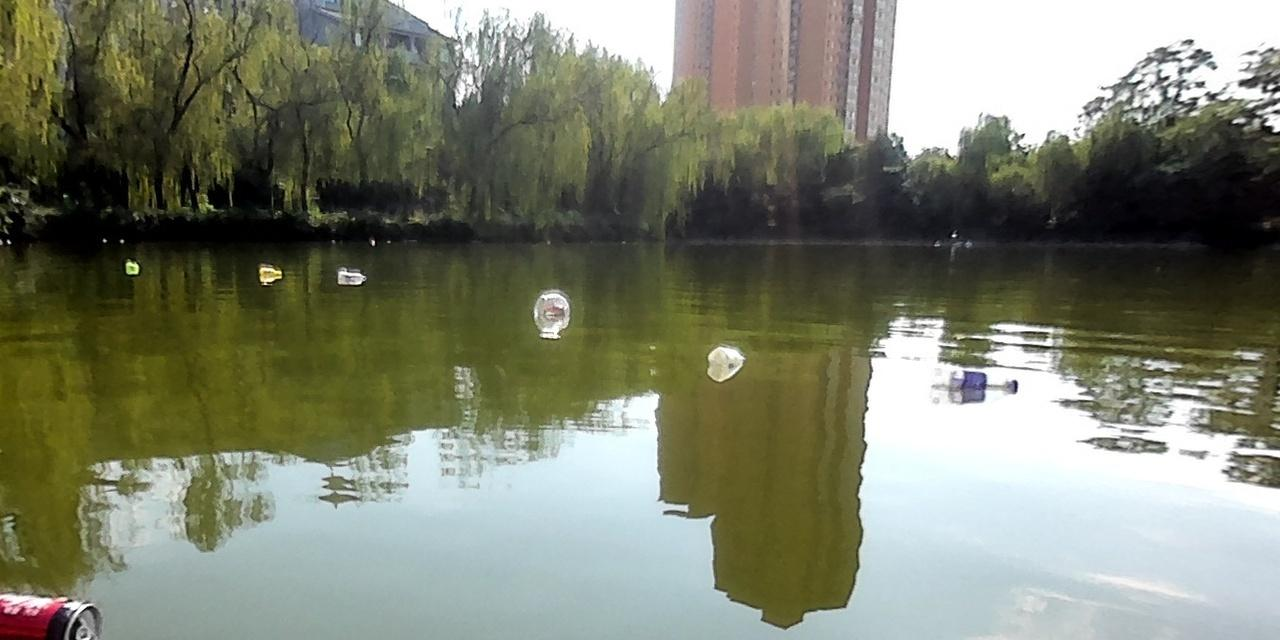bottle: (924, 365, 1017, 398), (535, 292, 569, 326), (705, 345, 744, 367), (333, 268, 366, 281), (257, 264, 280, 276), (123, 261, 137, 273)
